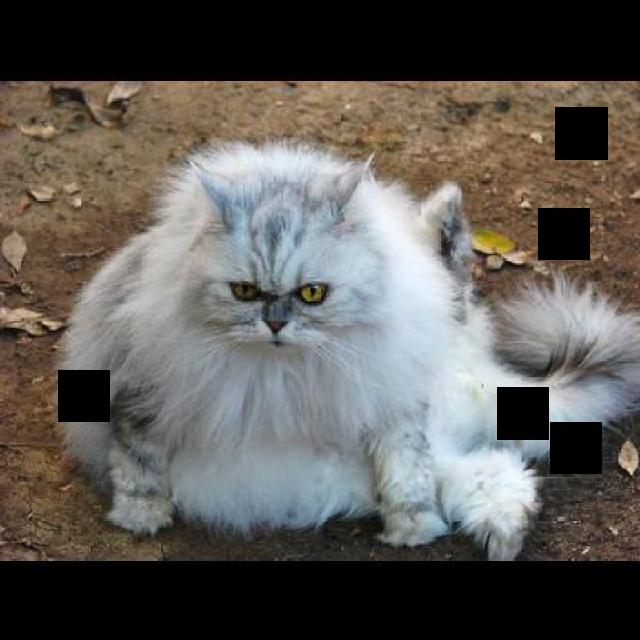unauthorized: (52, 136, 638, 558)
